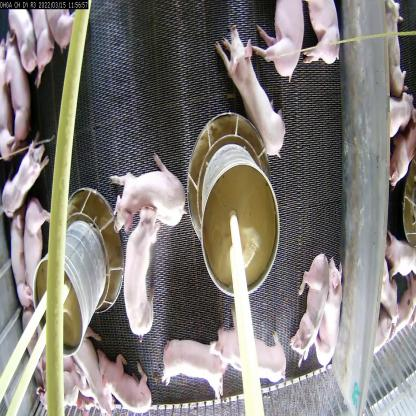Pig: (216, 32, 285, 168), (101, 152, 187, 228), (116, 211, 154, 344), (0, 138, 57, 225), (289, 248, 330, 361), (220, 327, 288, 395), (260, 0, 311, 88), (162, 336, 231, 398), (94, 344, 153, 411), (18, 194, 54, 296), (296, 1, 342, 76), (4, 205, 31, 330), (68, 346, 116, 415), (318, 263, 348, 367), (47, 5, 77, 62)
